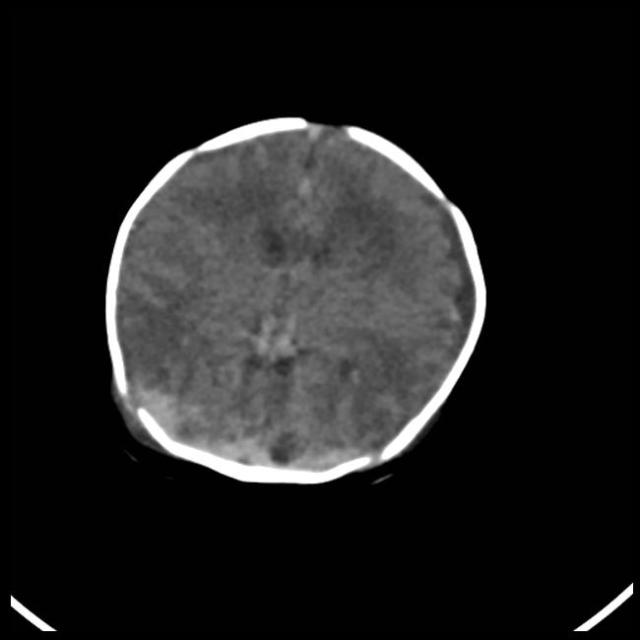lesion: (100, 110, 492, 490)
